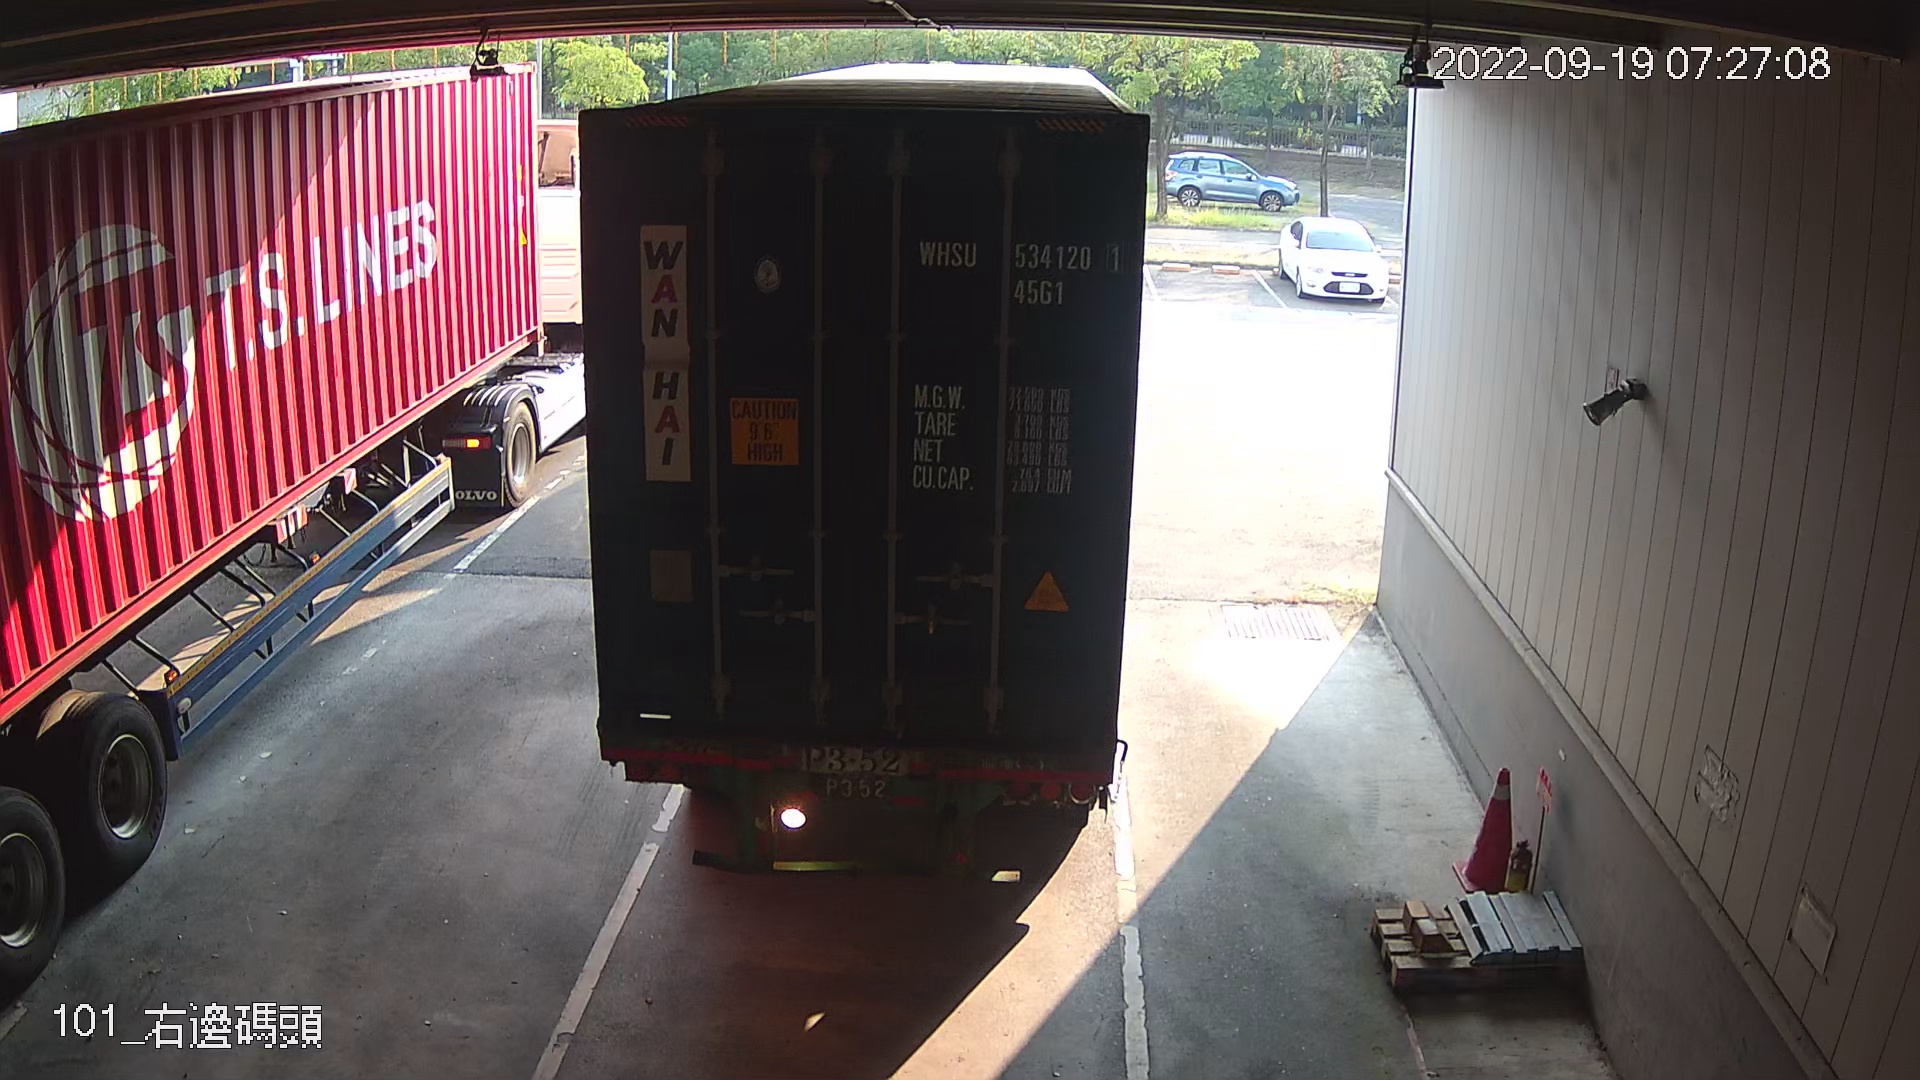container: (910, 229, 1131, 315)
